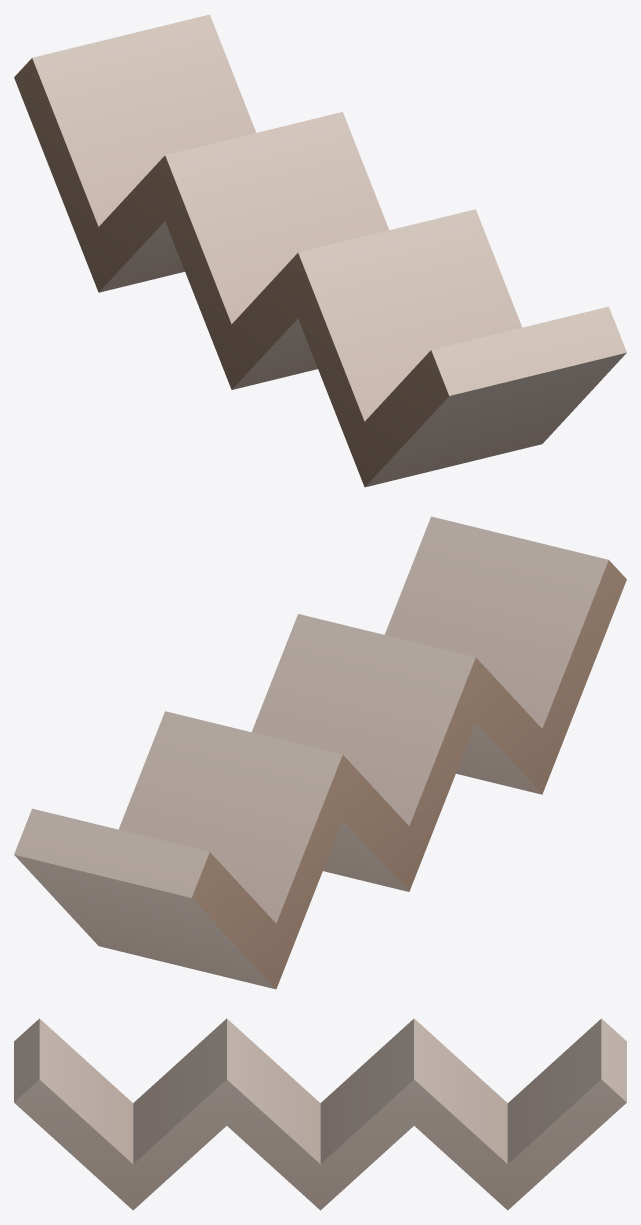
File: shelf-zigzag (%wall).glb
3 renders of one model, top to bottom at view 1: azimuth 30°, elevation 25°; view 2: azimuth 150°, elevation 25°; view 3: azimuth 270°, elevation 25°, orthographic. The views are drawn at different scales.
Parts seen in each view (by area): view 1: shelf-zigzag (%wall); view 2: shelf-zigzag (%wall); view 3: shelf-zigzag (%wall).
Boxes of the visible parts, x1,y1,x2,y2 form: shelf-zigzag (%wall): (14,14,626,487); shelf-zigzag (%wall): (14,516,626,989); shelf-zigzag (%wall): (14,1018,626,1210).
Bounding box in the file's own units: 0.3 × 0.3005 × 1.27.
